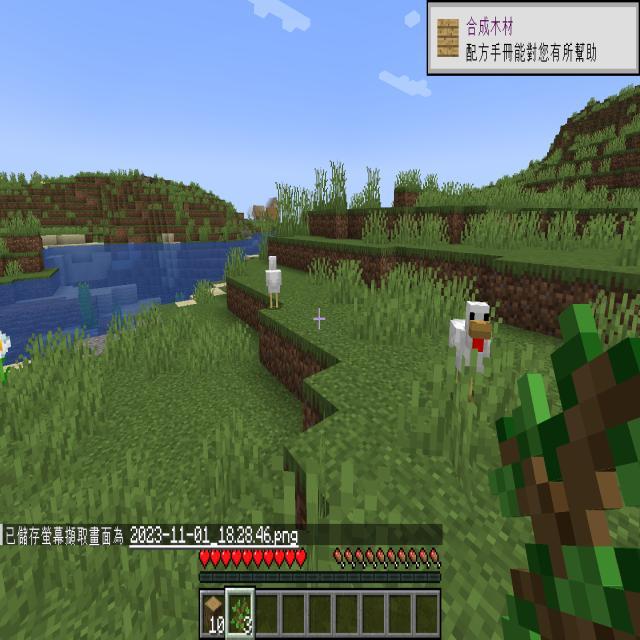chicken: (441, 289, 510, 414), (261, 245, 291, 320)
